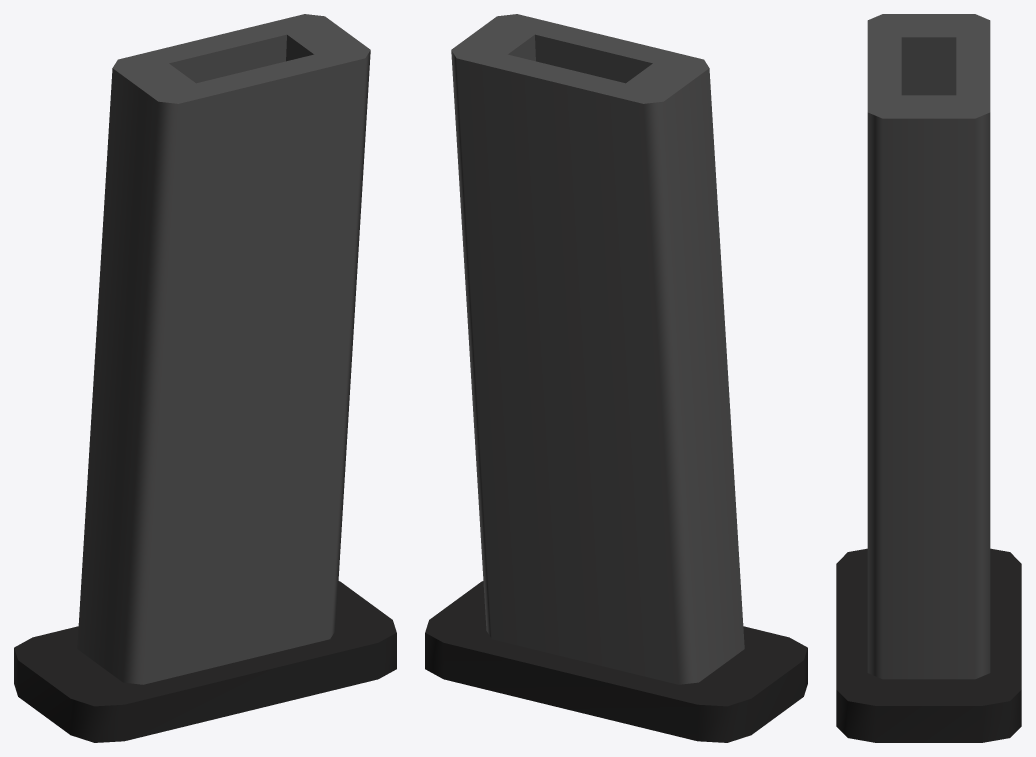
File: Pistol1_Magazine.fbx
3 renders of one model, left to right at view 1: azimuth 30°, elevation 25°; view 2: azimuth 150°, elevation 25°; view 3: azimuth 270°, elevation 25°, orthographic.
Parts seen in each view (by area): view 1: Pistol1_Magazine; view 2: Pistol1_Magazine; view 3: Pistol1_Magazine.
Part boxes in pixels (x1,y1,x2,y2): Pistol1_Magazine: (14,14,396,742); Pistol1_Magazine: (425,14,807,742); Pistol1_Magazine: (836,14,1021,742).
Bounding box in the file's own units: 7.11 × 3.51 × 12.84.
